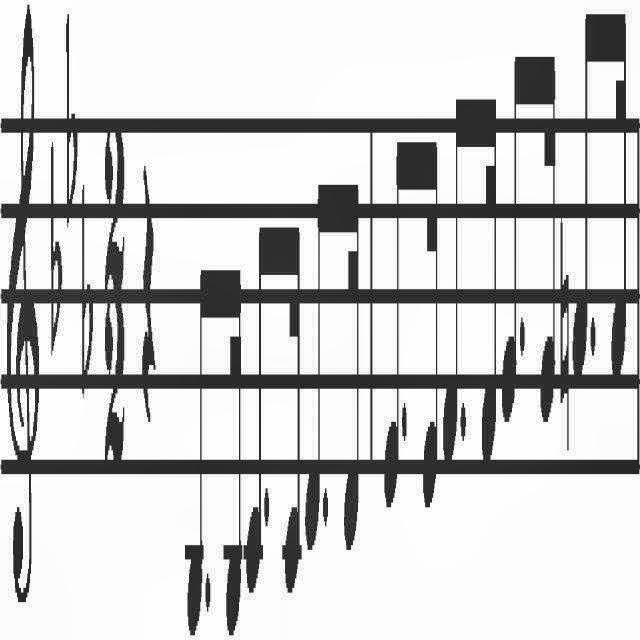Bass-clef: (4, 0, 41, 640)
Bemol: (47, 132, 65, 396), (61, 23, 79, 245), (80, 174, 94, 402)
Eighth-note: (174, 250, 203, 630), (244, 206, 266, 610), (572, 5, 592, 407), (380, 121, 400, 502), (443, 90, 461, 480), (502, 51, 518, 436), (306, 178, 322, 562)
Quarter-rest: (136, 158, 160, 480)
Sixteenth-note: (280, 194, 304, 610), (218, 236, 242, 640), (536, 41, 558, 436), (341, 169, 363, 563), (609, 0, 629, 402), (419, 119, 439, 517), (480, 82, 496, 478)
